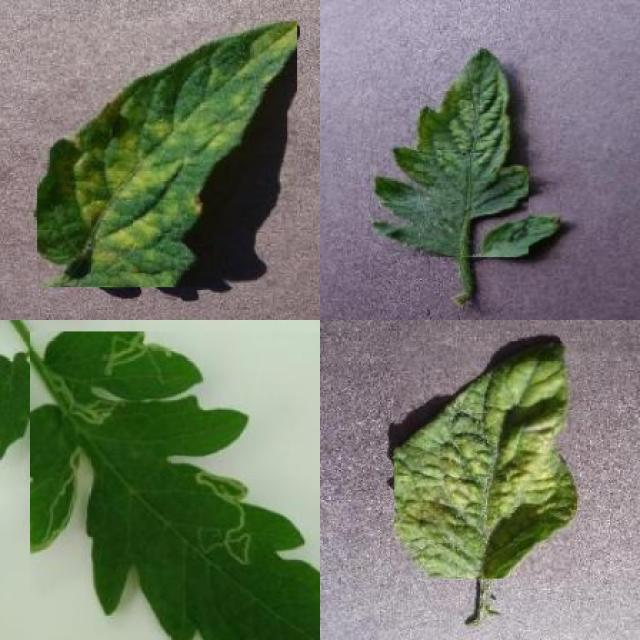Leaf Miner: (30, 331, 320, 640)
Leaf Mold: (37, 22, 297, 288)
Mosaic Virus: (372, 49, 528, 257)
Spider Mites: (395, 342, 578, 578)
